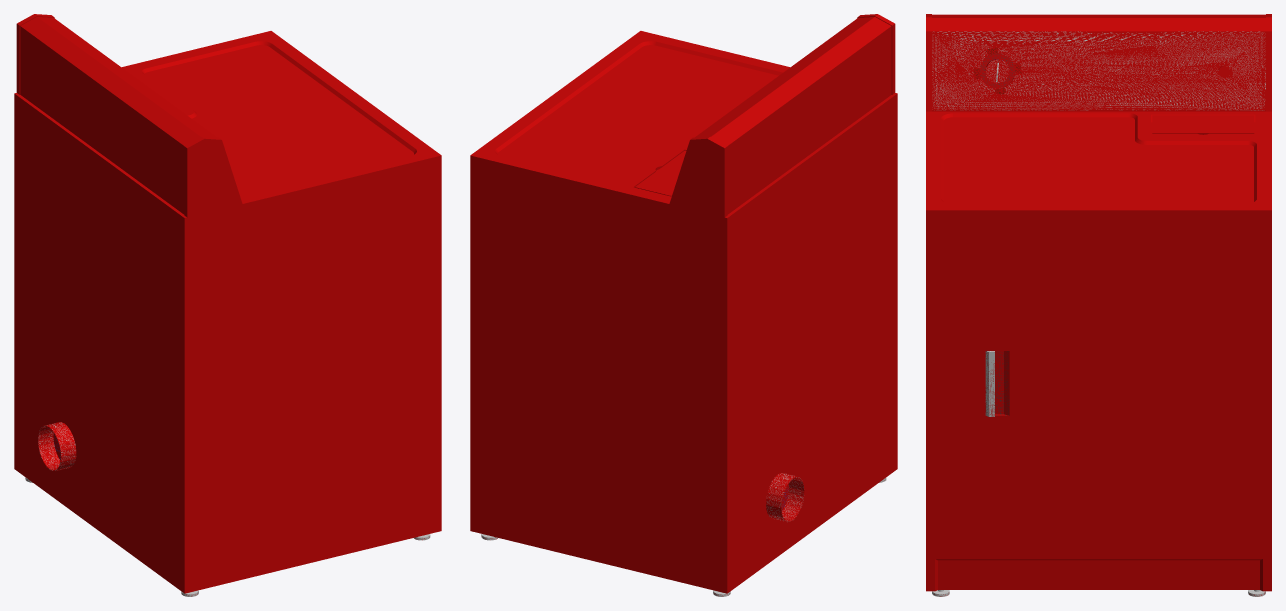
3 renders of one model, left to right at view 1: azimuth 30°, elevation 25°; view 2: azimuth 150°, elevation 25°; view 3: azimuth 270°, elevation 25°, orthographic.
Visible parts, largest first — view 1: mesh5_mesh5-geometry; view 2: mesh5_mesh5-geometry; view 3: mesh5_mesh5-geometry.
Part boxes in pixels (x1=…): mesh5_mesh5-geometry: x1=14, y1=14, x2=441, y2=593; mesh5_mesh5-geometry: x1=470, y1=14, x2=897, y2=593; mesh5_mesh5-geometry: x1=926, y1=14, x2=1271, y2=591.
Size of the model in its own units: 0.4618 by 0.7354 by 0.496.
